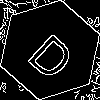D: (25, 25, 84, 83)
